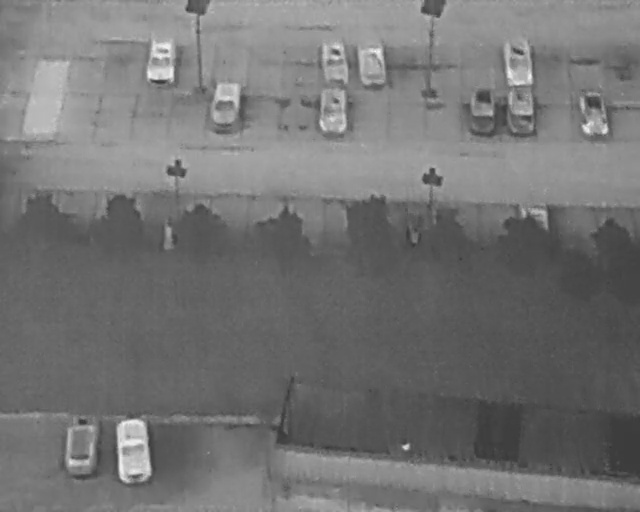Car: (111, 416, 154, 486), (61, 414, 100, 480), (207, 76, 245, 129), (501, 35, 536, 87), (353, 41, 389, 88), (145, 36, 177, 86), (506, 83, 535, 137), (578, 89, 609, 139), (317, 87, 349, 135), (467, 84, 497, 135), (319, 41, 351, 85)
